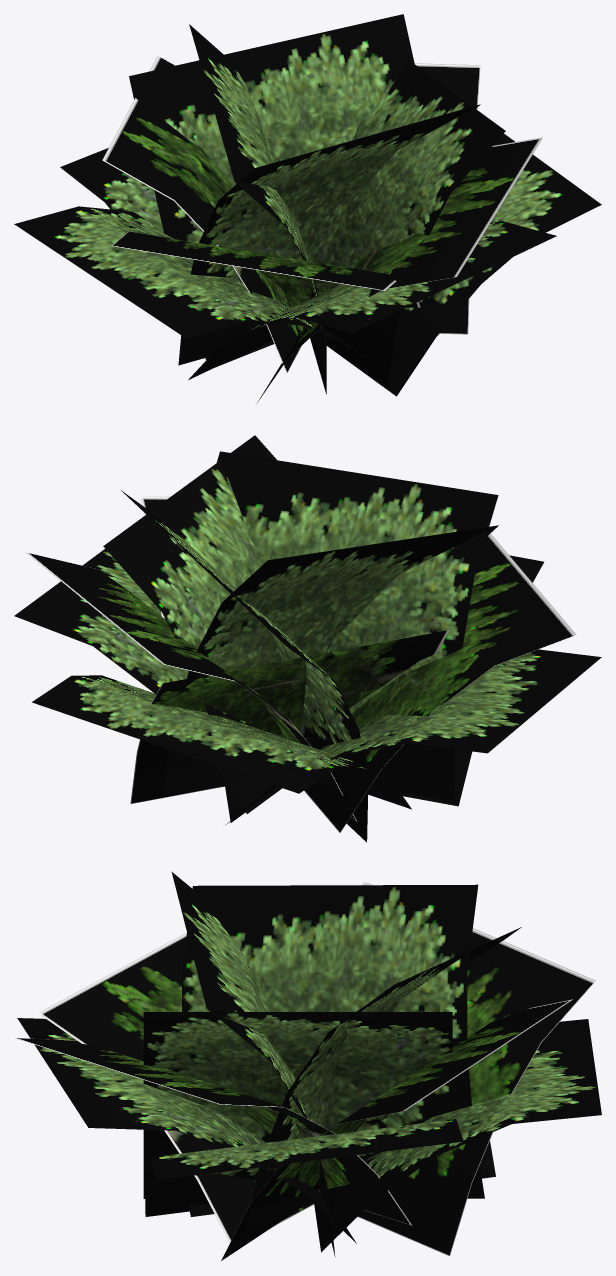
File: Bush_001.FBX
3 renders of one model, top to bottom at view 1: azimuth 30°, elevation 25°; view 2: azimuth 150°, elevation 25°; view 3: azimuth 270°, elevation 25°, orthographic. The views are drawn at different scales.
Parts seen in each view (by area): view 1: Bush; view 2: Bush; view 3: Bush.
Part boxes in pixels (x1,y1,x2,y2): Bush: [14, 14, 601, 402]; Bush: [14, 435, 601, 842]; Bush: [15, 871, 601, 1260].
Bounding box in the file's own units: 47.79 × 28.64 × 48.61.
